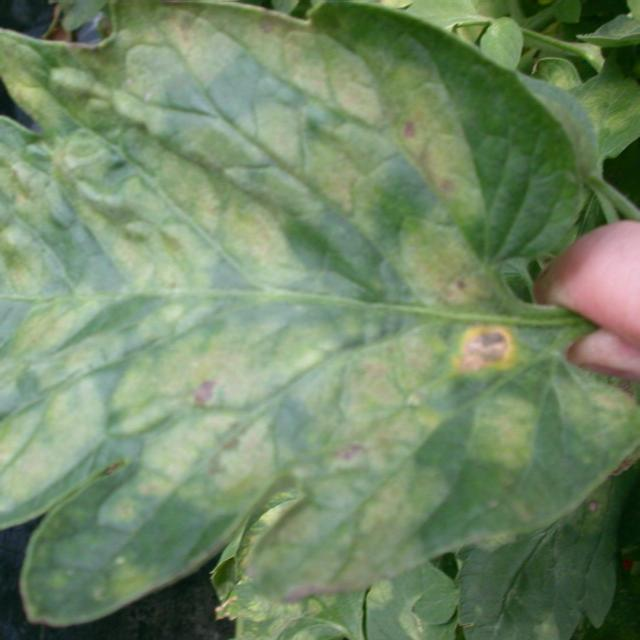Tomato mold leaf: (0, 0, 563, 629)
